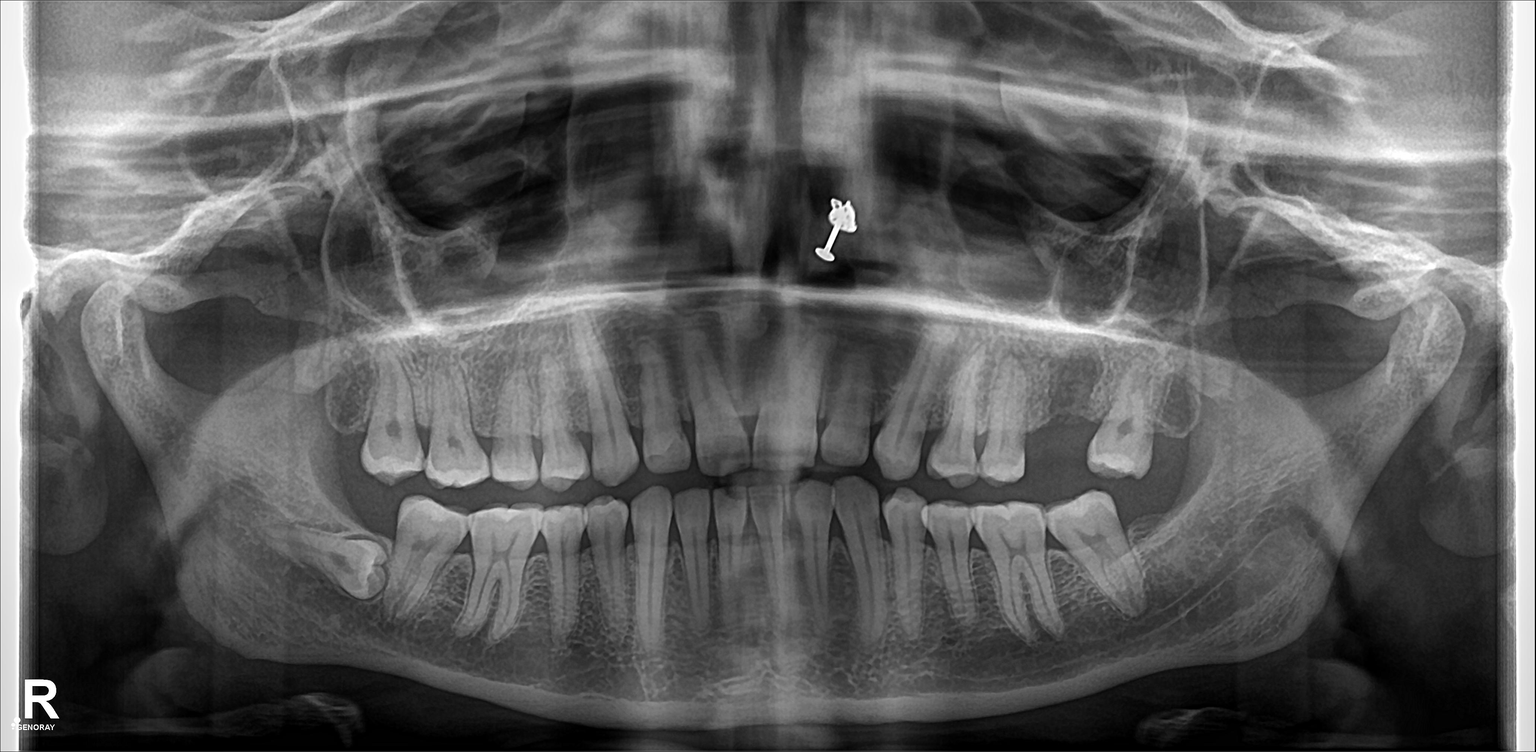Impacted Third Molar: (311, 523, 393, 597)
Missing Tooth: (1140, 484, 1192, 591), (313, 374, 366, 477), (1058, 352, 1094, 475), (1162, 372, 1202, 477), (1017, 367, 1055, 472)
